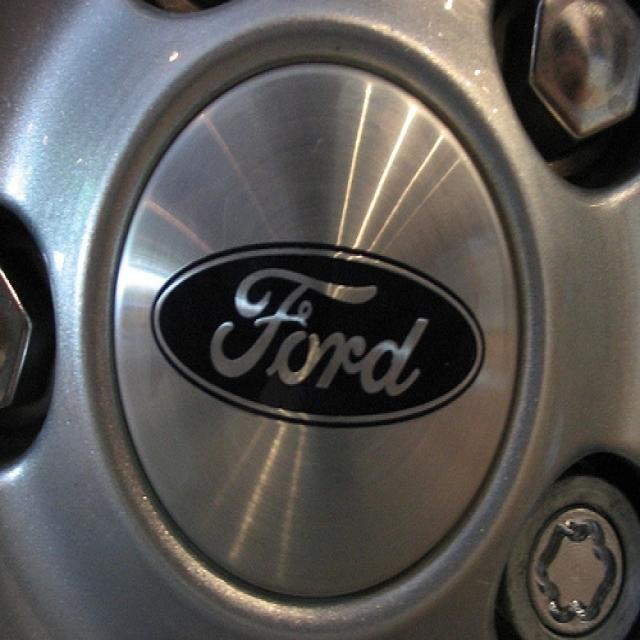ford: (150, 237, 489, 436)
